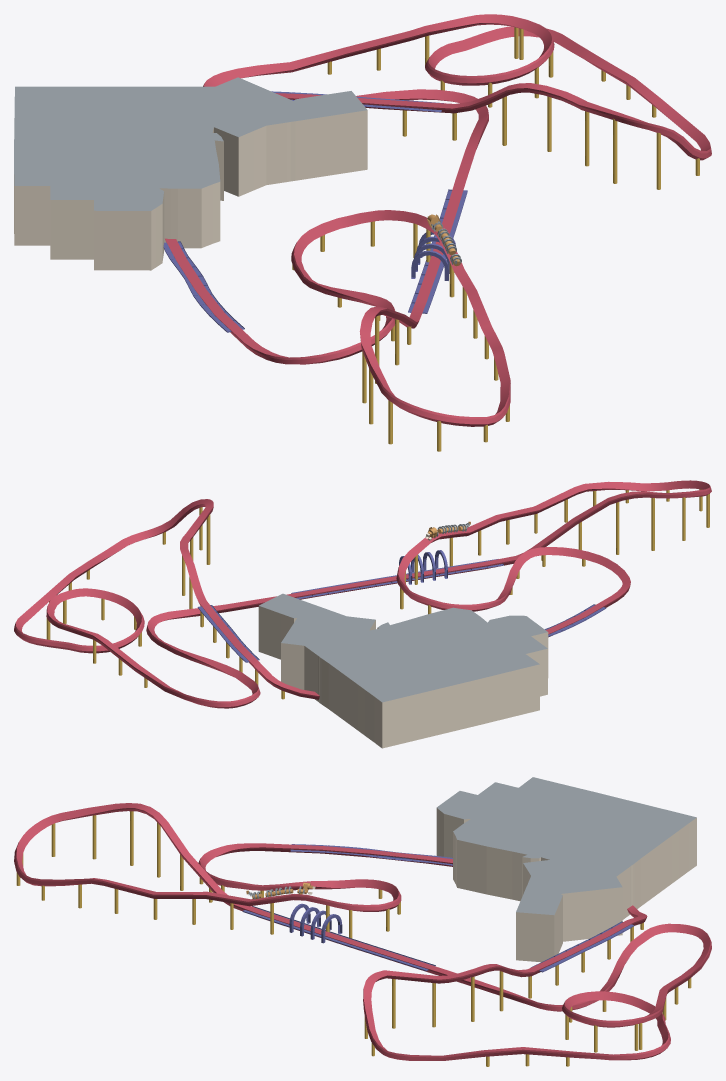
3 views of the same model, one above another, from view 1: azimuth 30°, elevation 25°; view 2: azimuth 150°, elevation 25°; view 3: azimuth 270°, elevation 25° (orthographic). The views are drawn at different scales.
Visible parts, largest first — view 1: slinky-dog-dash-walt-disney-world; view 2: slinky-dog-dash-walt-disney-world; view 3: slinky-dog-dash-walt-disney-world.
Part boxes in pixels (bbox=[...]): slinky-dog-dash-walt-disney-world: bbox=[14, 14, 711, 451]; slinky-dog-dash-walt-disney-world: bbox=[14, 480, 711, 748]; slinky-dog-dash-walt-disney-world: bbox=[14, 777, 711, 1066].
Size of the model in its own units: 128 by 15.55 by 156.
